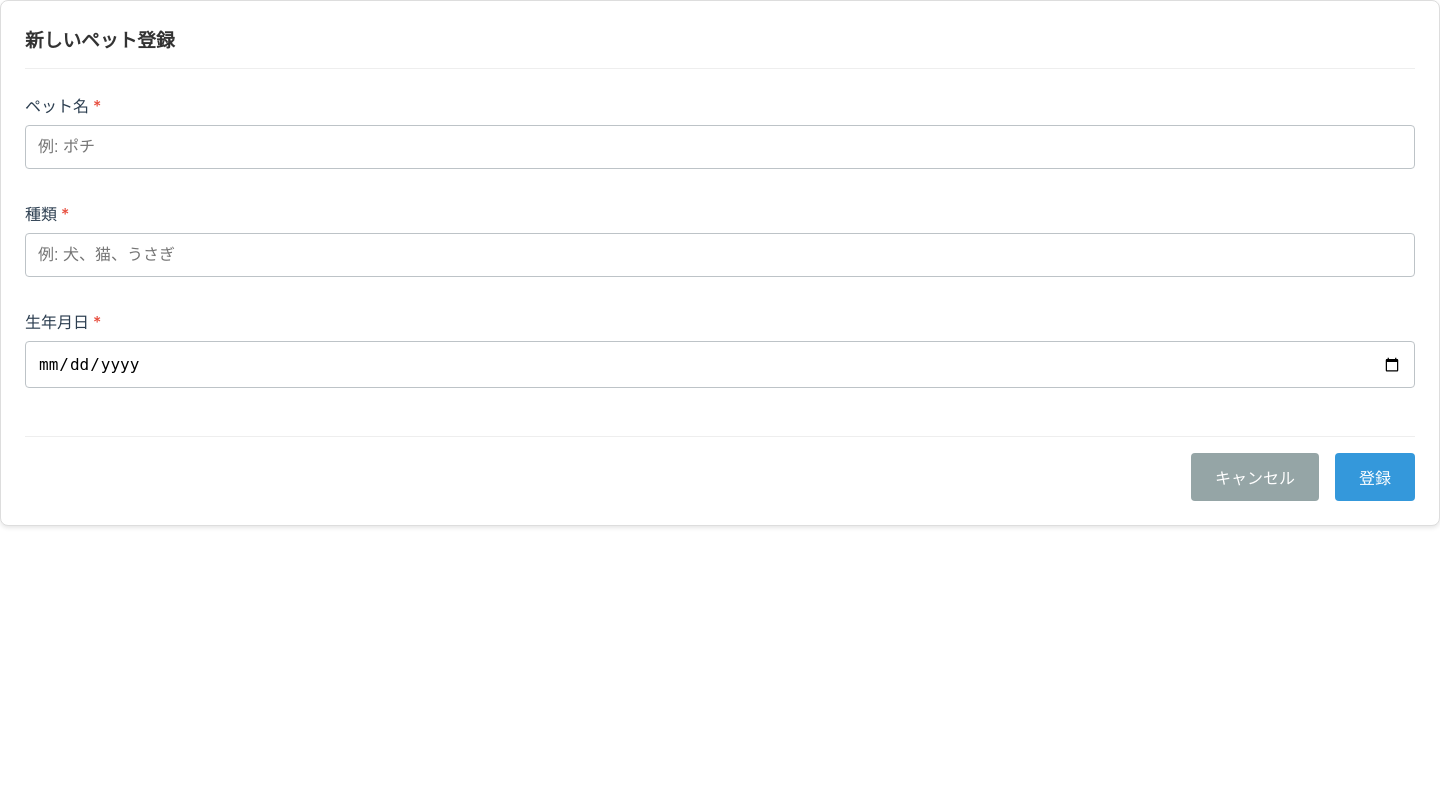
PetForm › 新規作成モード › 必須フィールドが空の場合バリデーションエラーが表示される
Click the button "登録" at x=1375, y=477, box [1335, 453, 1415, 501]
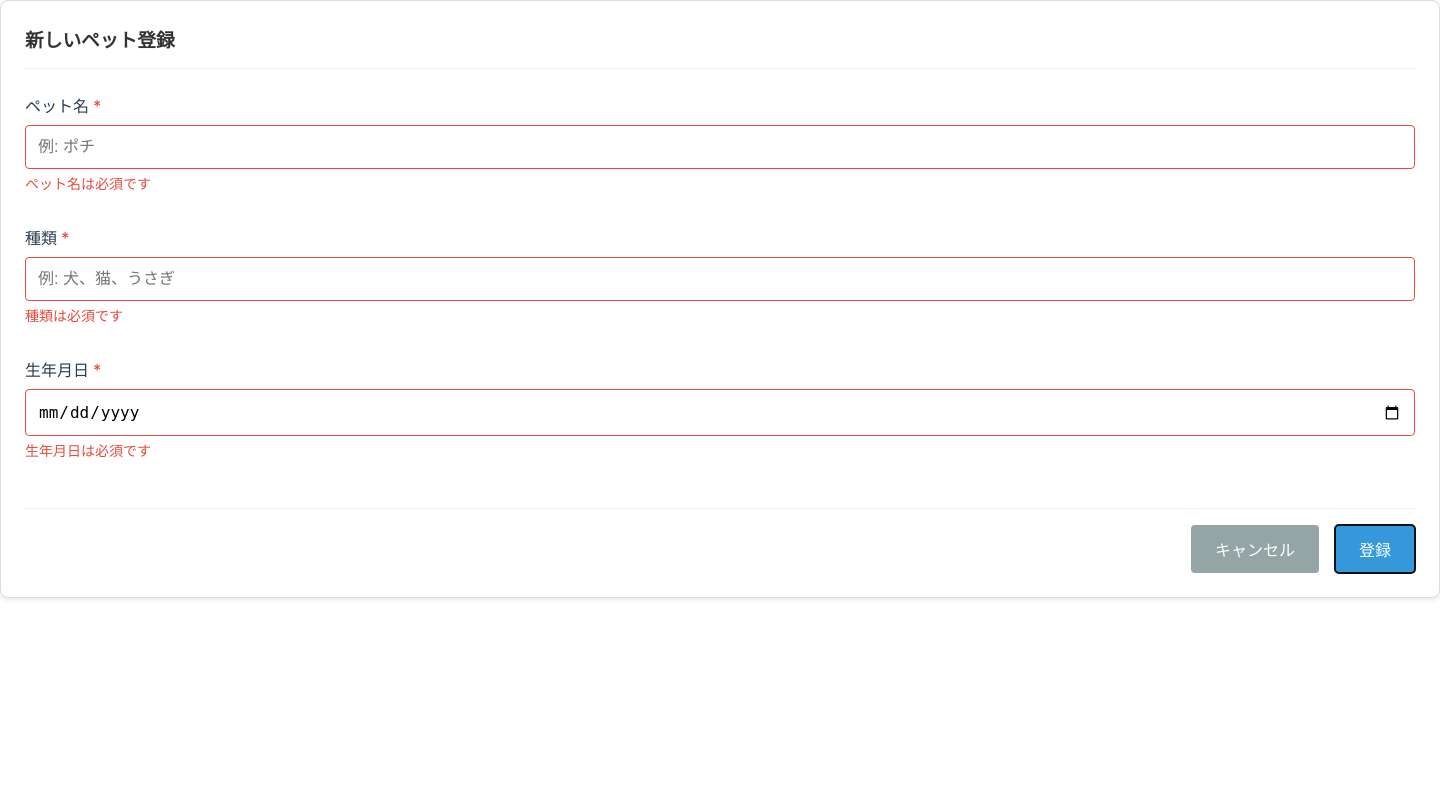
Now the text "ペット名は必須です" is shown, box [25, 175, 151, 192]
Now the text "種類は必須です" is shown, box [25, 307, 123, 324]
Now the text "生年月日は必須です" is shown, box [25, 442, 151, 459]
